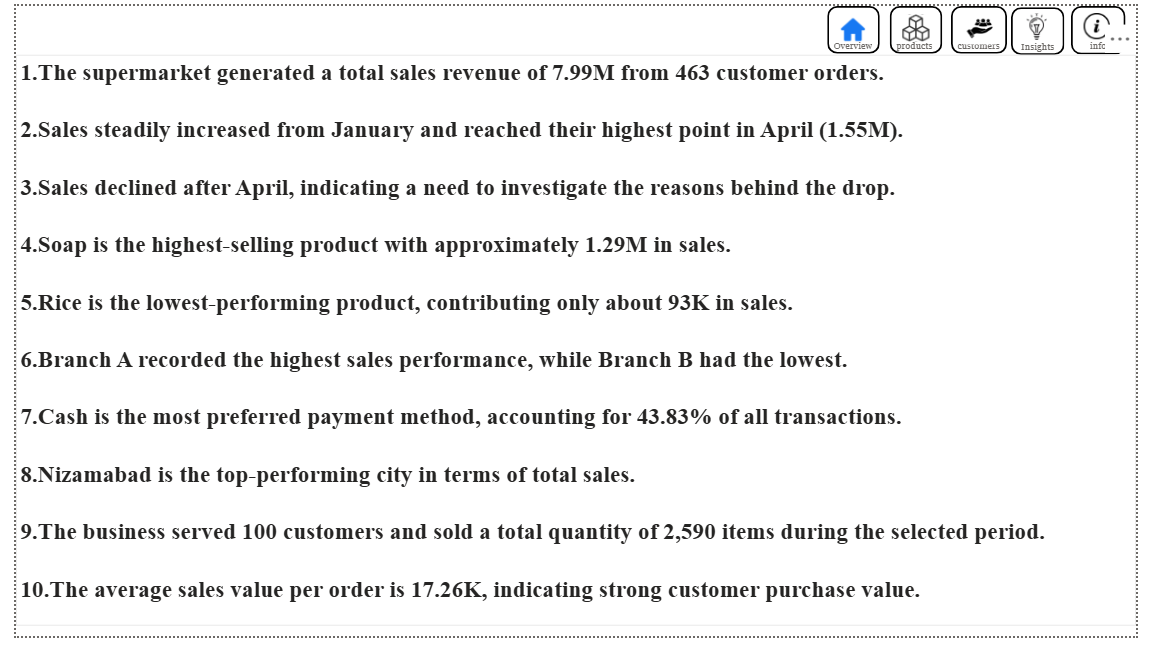

What the dashboard file says about the page in this screenshot:
{"tool":"powerbi","page":{"name":"insights","canvas":[1280,720],"ordinal":4},"visuals":[{"type":"actionButton","title":"home button","box":[926.7,0,60,54.4],"z":0},{"type":"actionButton","title":"products button","box":[998.9,0,60,54.4],"z":1000},{"type":"actionButton","title":"customers button","box":[1068,0,64,54.7],"z":2000},{"type":"actionButton","title":"insights button","box":[1136.7,1.1,61.1,54.4],"z":3000},{"type":"actionButton","title":"info button","box":[1205.6,0,62.2,55.6],"z":4000},{"type":"textbox","box":[0,55,1280,653.3],"z":5000}]}

Visuals, with their boxes in screenshot pixels (x1, y1, x2, y2), scaled from the page's 1280x720 canvas onto the 1155x658 screenshot:
"home button" actionButton: [836,0,890,50]
"products button" actionButton: [901,0,955,50]
"customers button" actionButton: [964,0,1021,50]
"insights button" actionButton: [1026,1,1081,51]
"info button" actionButton: [1088,0,1144,51]
textbox: [0,50,1154,647]
